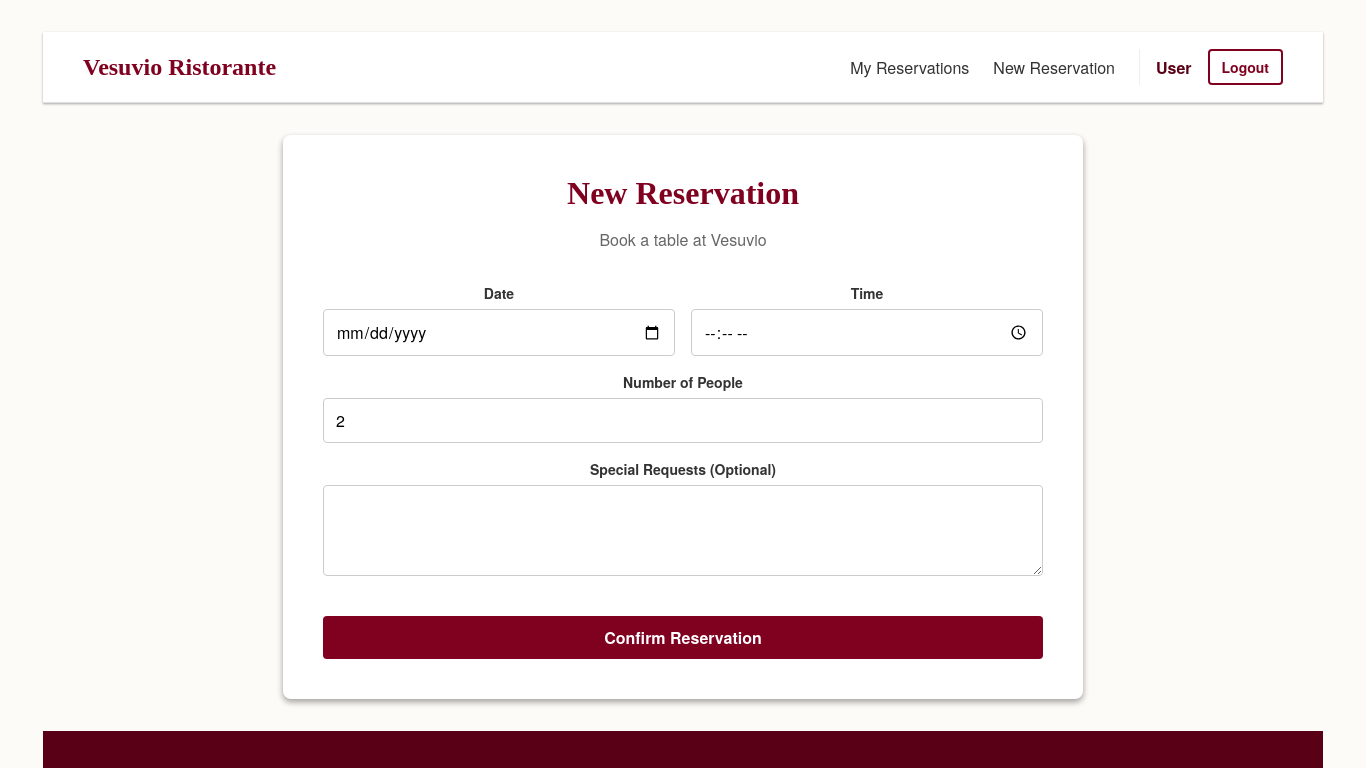
it: NewReservationPage › validates people count
Replace the text in the number field labelled "Number of People" with "0": (683, 420) [323, 398, 1043, 443]
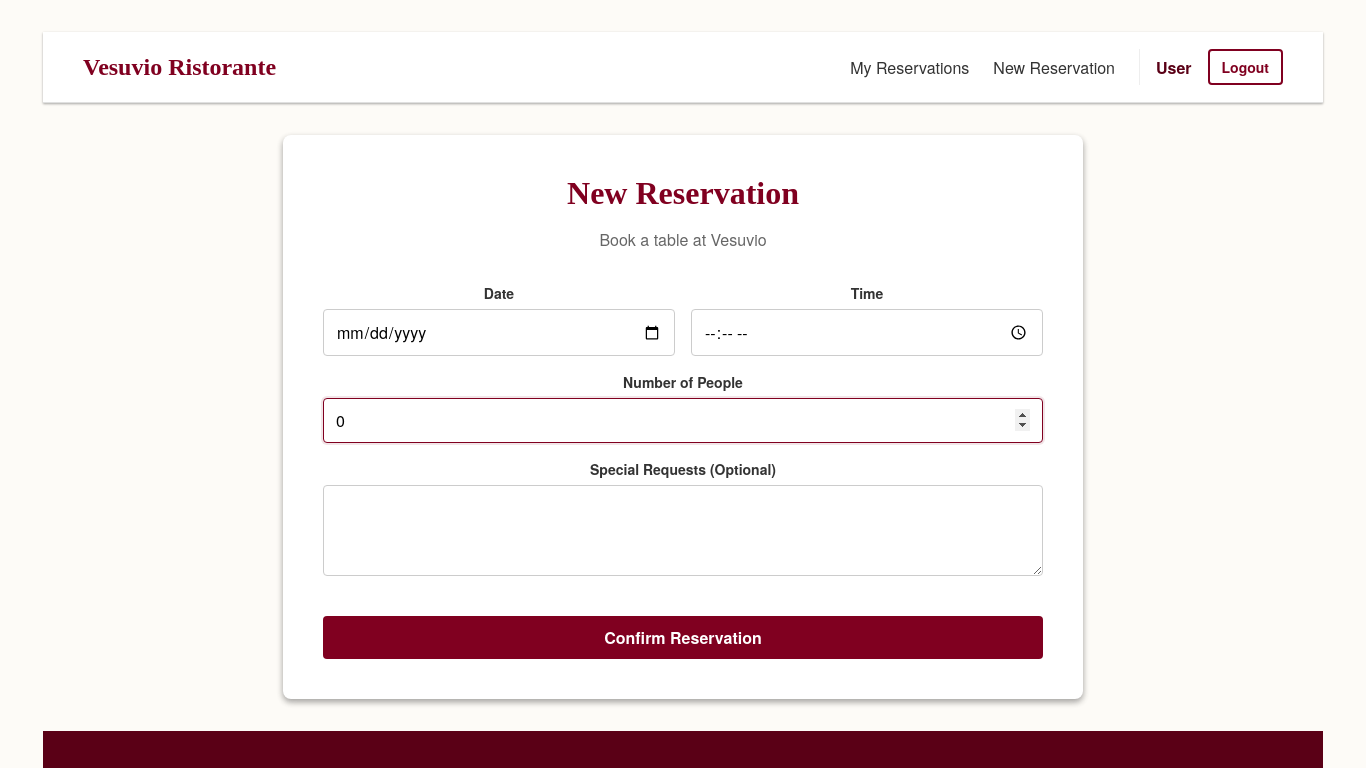
Click the button "Confirm Reservation": (683, 638) [323, 616, 1043, 659]
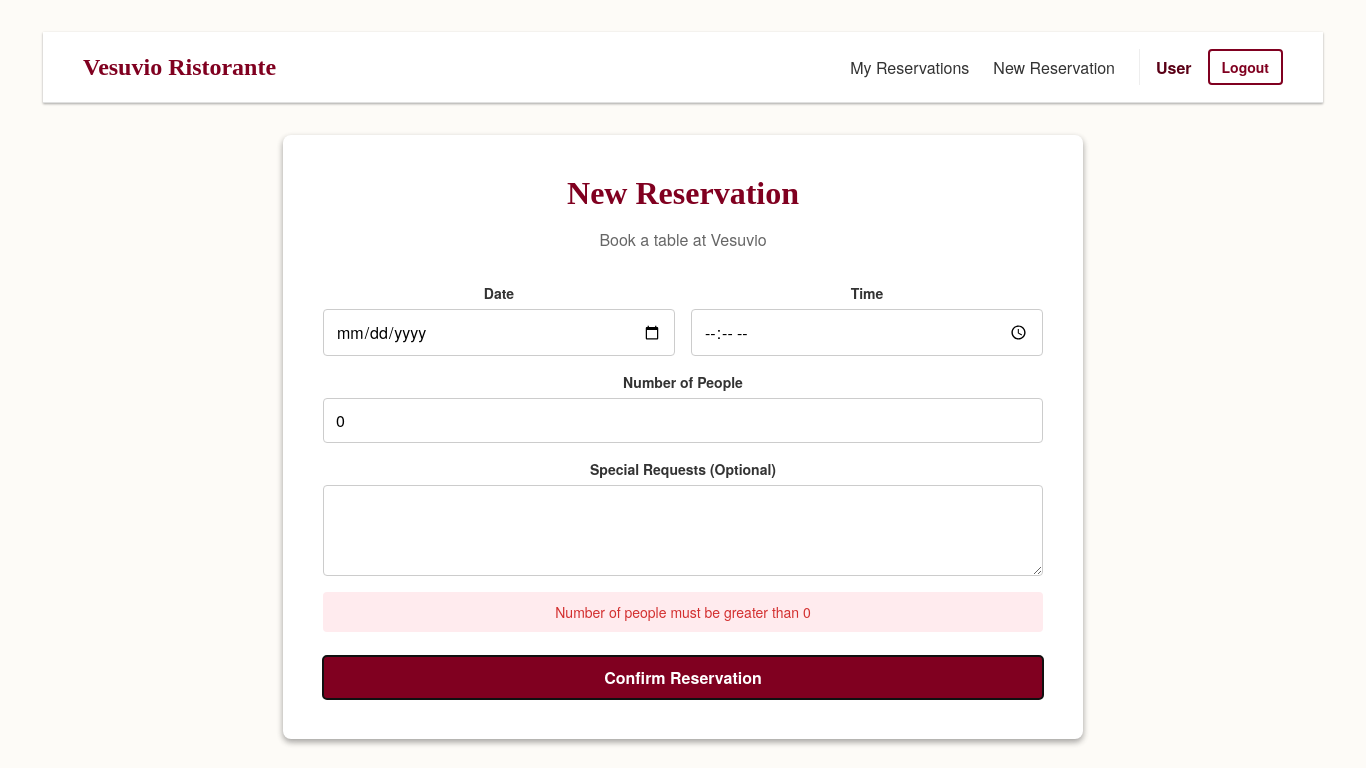
Check: the text "Number of people must be greater than 0" is shown, box [323, 592, 1043, 632]
